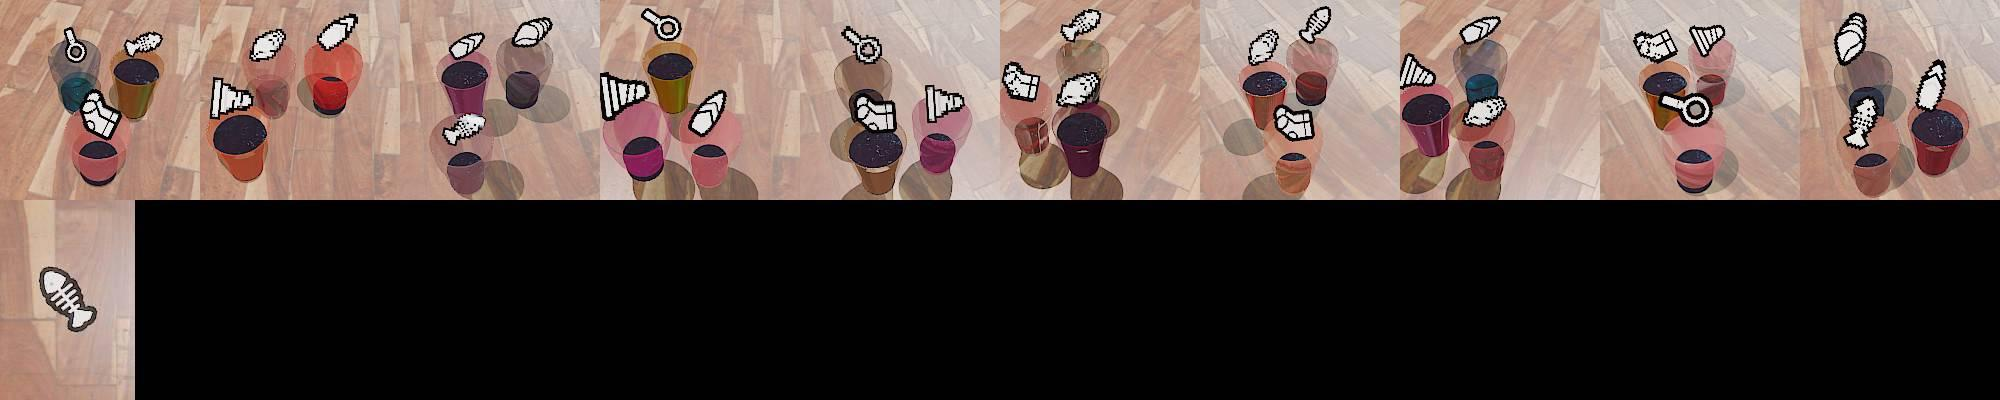icon: (37, 264, 98, 332), (598, 70, 652, 122), (209, 74, 256, 121), (79, 89, 122, 140), (1657, 90, 1712, 127), (1843, 96, 1880, 149), (686, 88, 727, 136), (852, 90, 898, 132), (1460, 94, 1510, 132), (1913, 60, 1949, 112), (1834, 13, 1867, 68), (1054, 70, 1101, 108), (923, 84, 964, 125), (841, 24, 881, 65), (315, 13, 357, 52), (1272, 103, 1316, 140), (640, 6, 684, 43), (1633, 28, 1680, 61), (1001, 61, 1041, 101), (1059, 8, 1101, 45), (441, 111, 486, 145), (511, 17, 555, 48), (1459, 14, 1503, 46), (1399, 52, 1436, 89), (249, 27, 287, 62), (1687, 23, 1726, 59), (1297, 5, 1332, 45), (1247, 28, 1281, 65), (448, 31, 486, 61), (125, 31, 163, 57), (61, 27, 87, 62)
